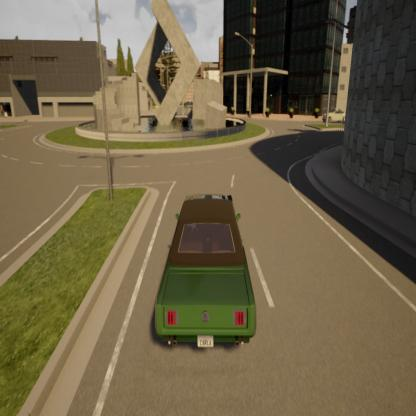Cars: (150, 183, 264, 360)
